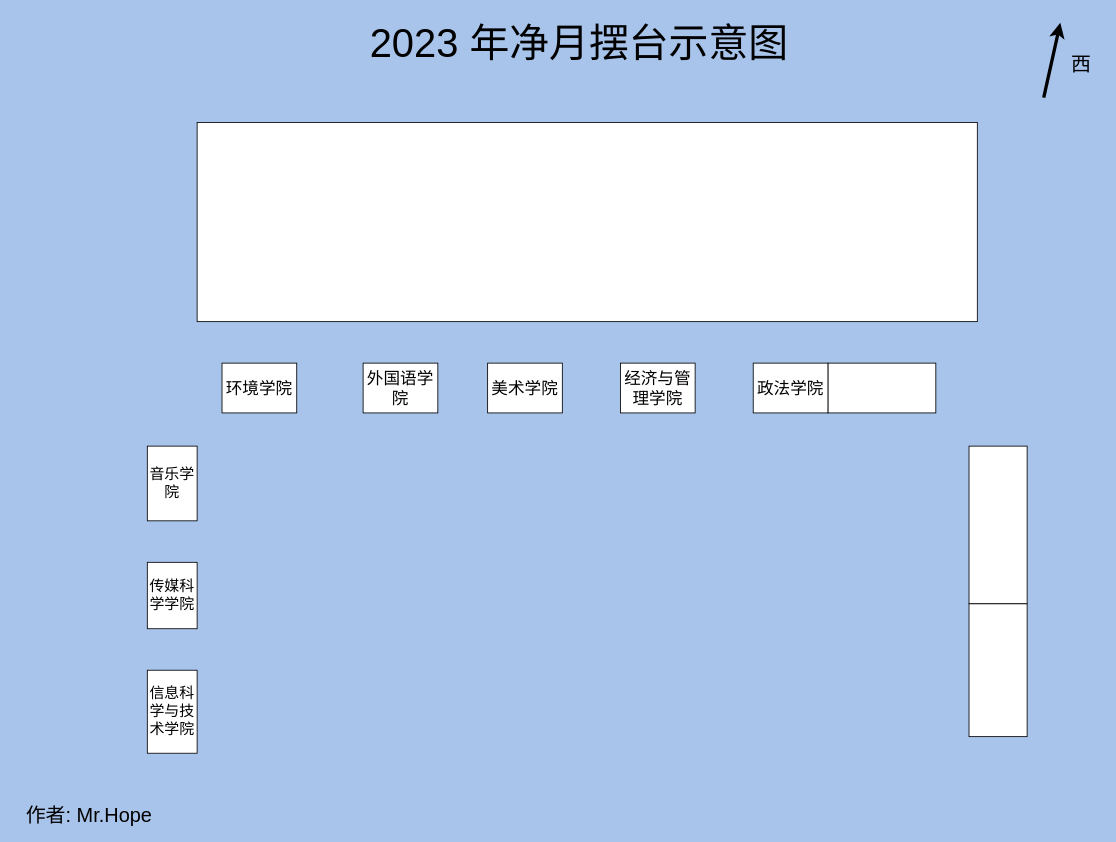
Image size: 1116x842. Some labels were removed from this diagram. The centre of each missing label's shape, as x and y in pixels:
图书馆: (x=586, y=222)
家长休息区: (x=997, y=670)
总服务台: (x=881, y=387)
绿色通道办理处: (x=997, y=524)
